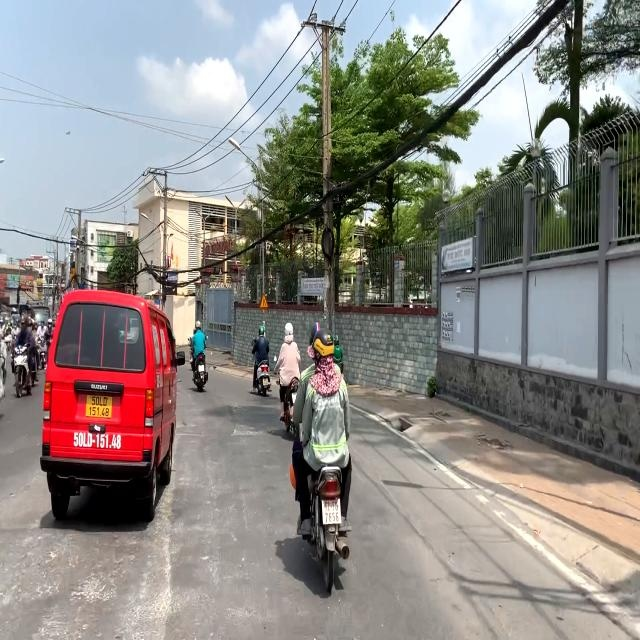bien_nguy_hiem: (259, 292, 269, 310)
